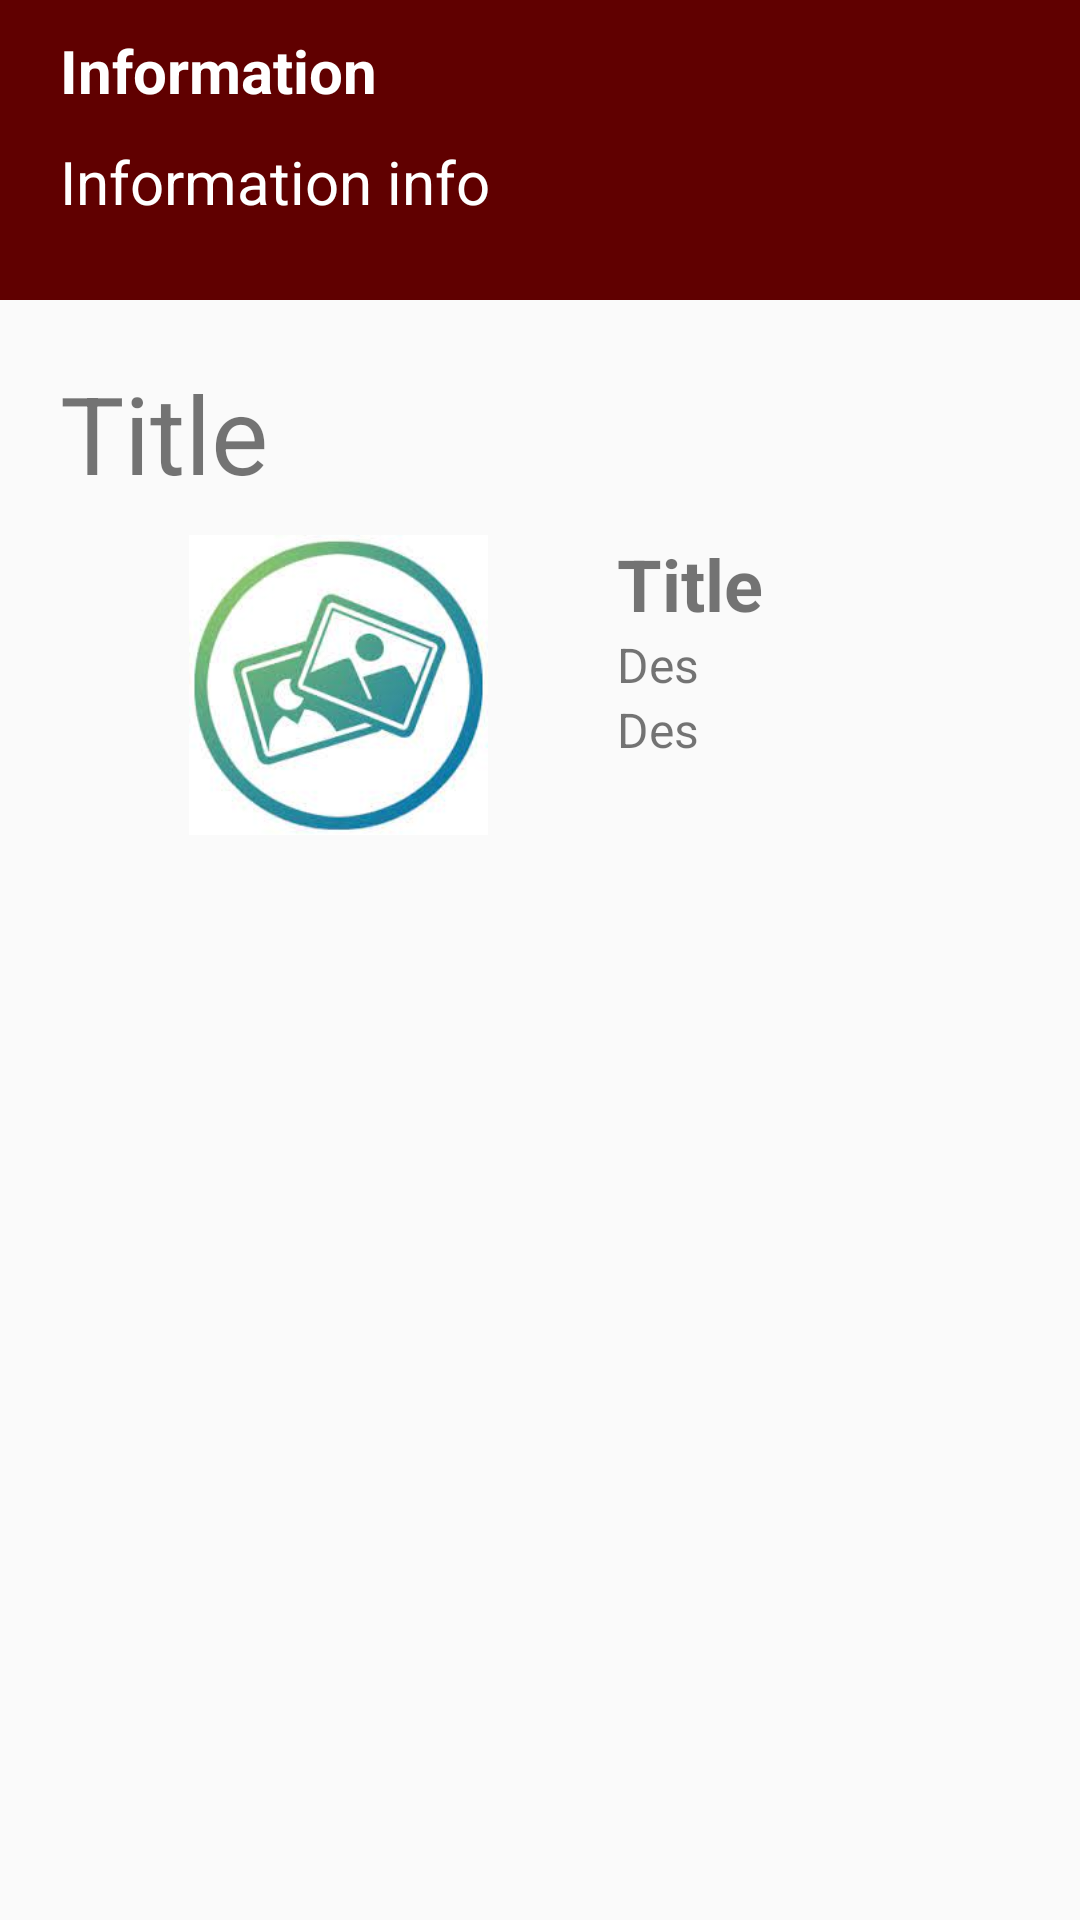

Named icons in this screenshot (1080w x 1920h) and their bounding boxes, (x1, y1, x2, y2):
images: (194, 541, 483, 830)
